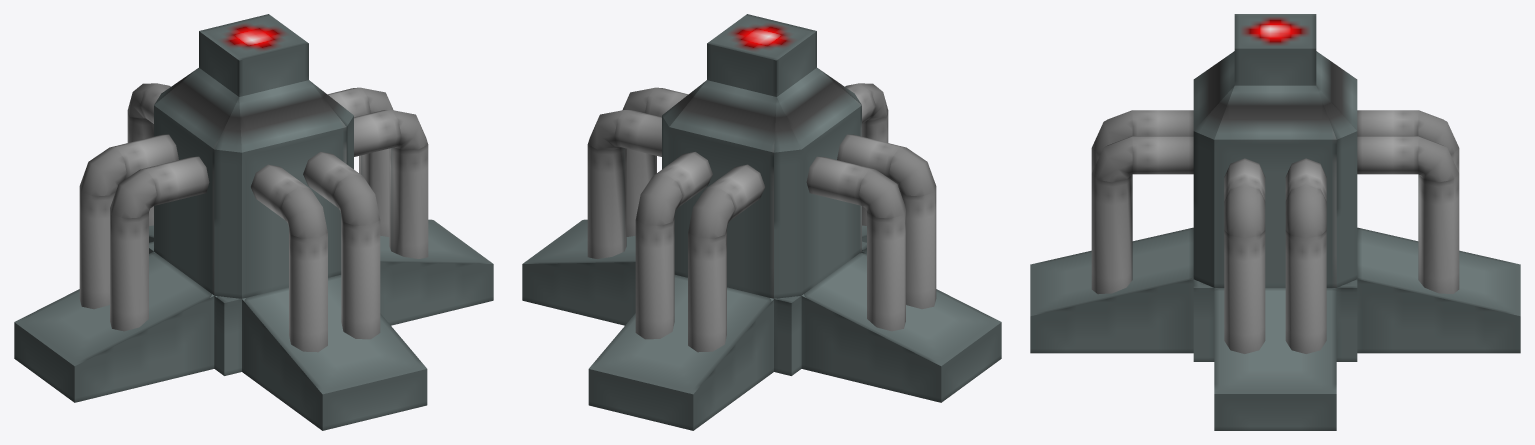
File: watz_pump.obj
3 views of the same model, side by side, from view 1: azimuth 30°, elevation 25°; view 2: azimuth 150°, elevation 25°; view 3: azimuth 270°, elevation 25° (orthographic).
Visible parts, largest first — view 1: Plane; view 2: Plane; view 3: Plane.
Part boxes in pixels (left/top/right/bottom): Plane: left=14, top=14, right=493, bottom=430; Plane: left=522, top=14, right=1001, bottom=430; Plane: left=1030, top=14, right=1520, bottom=430.
Bounding box in the file's own units: 3 × 2 × 3.
